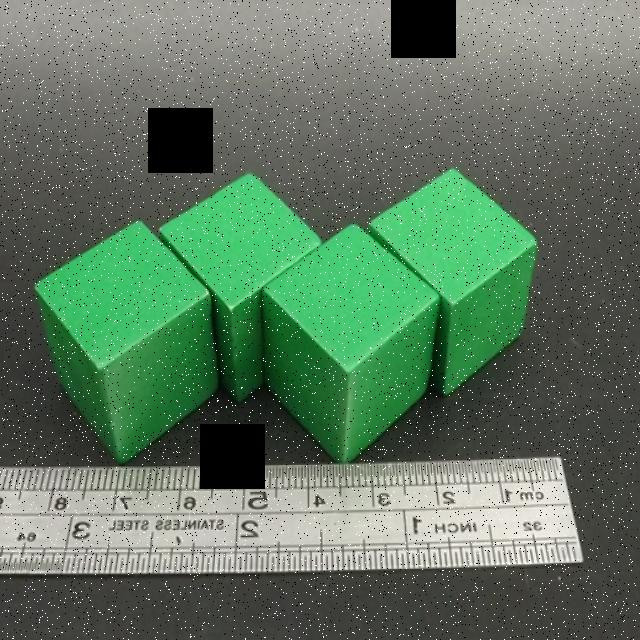green cube: (33, 218, 219, 466), (261, 221, 439, 464), (366, 166, 537, 399), (160, 171, 323, 404)
